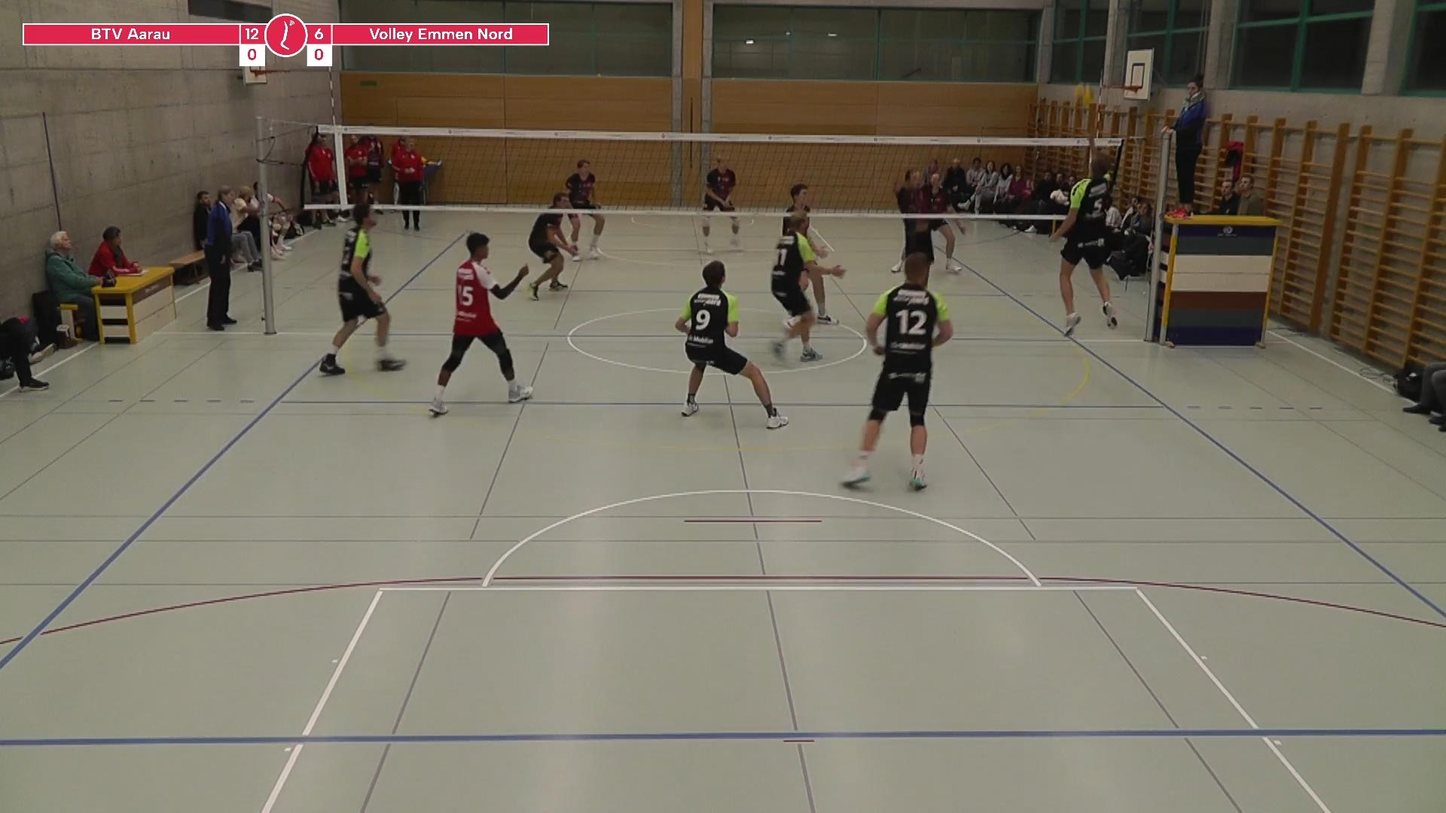Attack: (1047, 125, 1143, 345)
Player: (843, 253, 953, 489), (675, 261, 788, 428), (429, 233, 532, 416), (319, 203, 405, 375), (771, 212, 844, 361), (528, 212, 578, 300), (782, 184, 827, 257), (890, 217, 934, 272), (703, 157, 737, 212), (929, 217, 962, 273), (566, 160, 599, 210)
ball: (1071, 73, 1092, 109)
